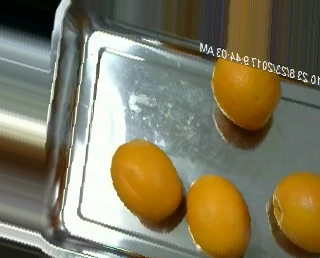Orange: (110, 137, 183, 222), (185, 174, 252, 257), (272, 171, 320, 255)
